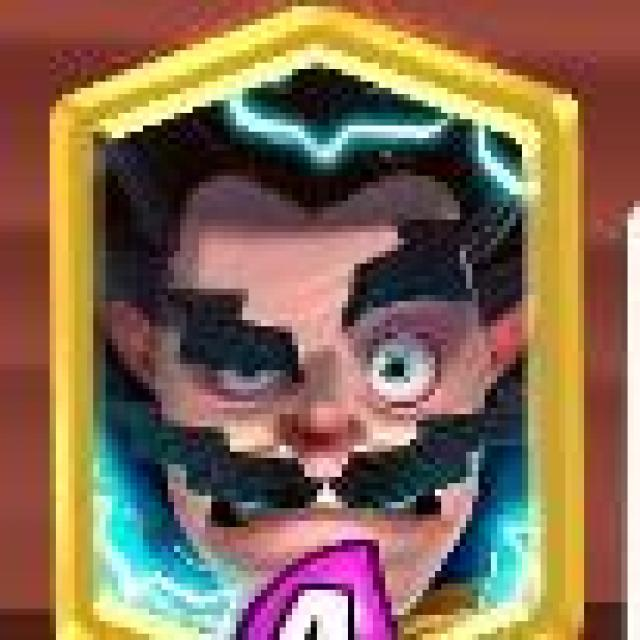Electro_Wizard: (44, 7, 585, 640)
